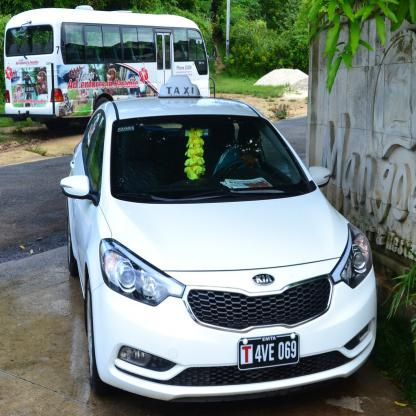Bus: (5, 5, 218, 129)
